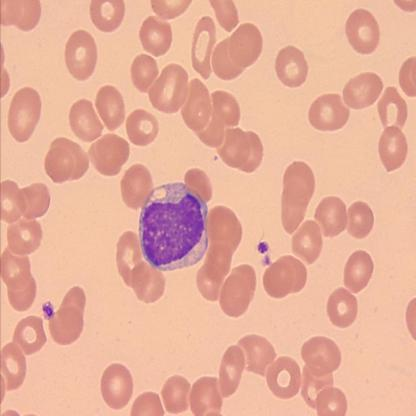Myelocyte: (138, 181, 209, 272)
